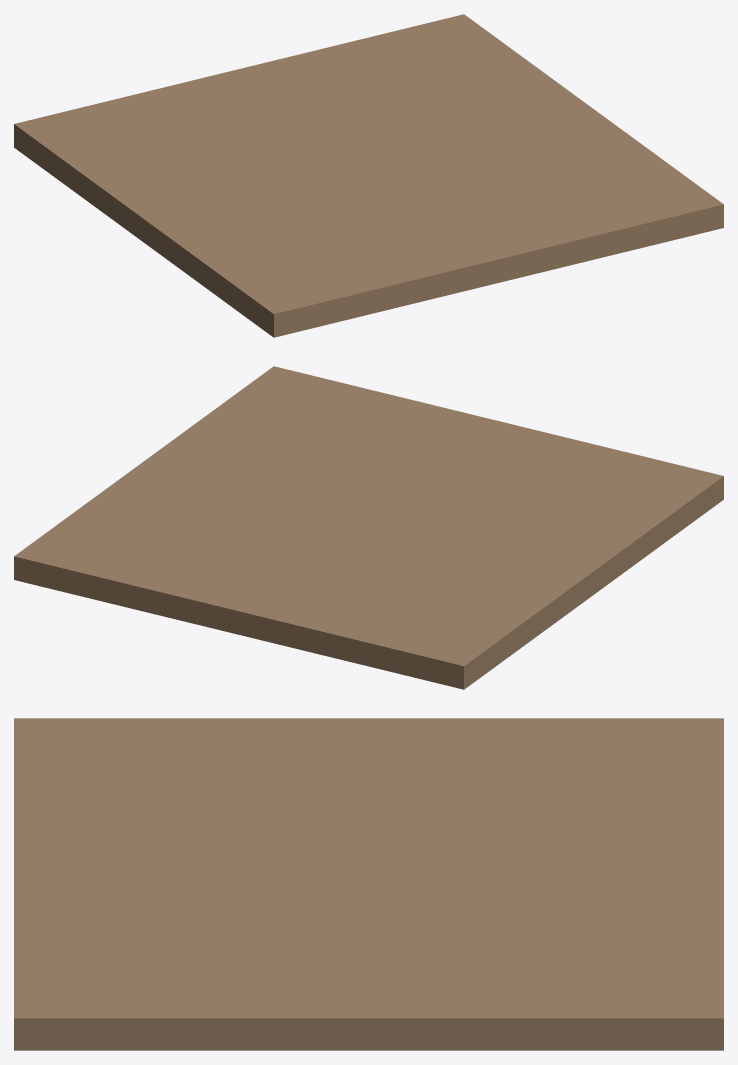
File: floor3x3.fbx
The picture shows the model from 3 angles, top to bottom: view 1: azimuth 30°, elevation 25°; view 2: azimuth 150°, elevation 25°; view 3: azimuth 270°, elevation 25°; orthographic projection. The views are drawn at different scales.
Visible parts, largest first — view 1: floor; view 2: floor; view 3: floor.
Boxes of the visible parts, x1,y1,x2,y2 form: floor: [14, 14, 723, 337]; floor: [14, 366, 723, 689]; floor: [14, 718, 723, 1050].
Bounding box in the file's own units: 5.94 × 0.2968 × 5.94.
